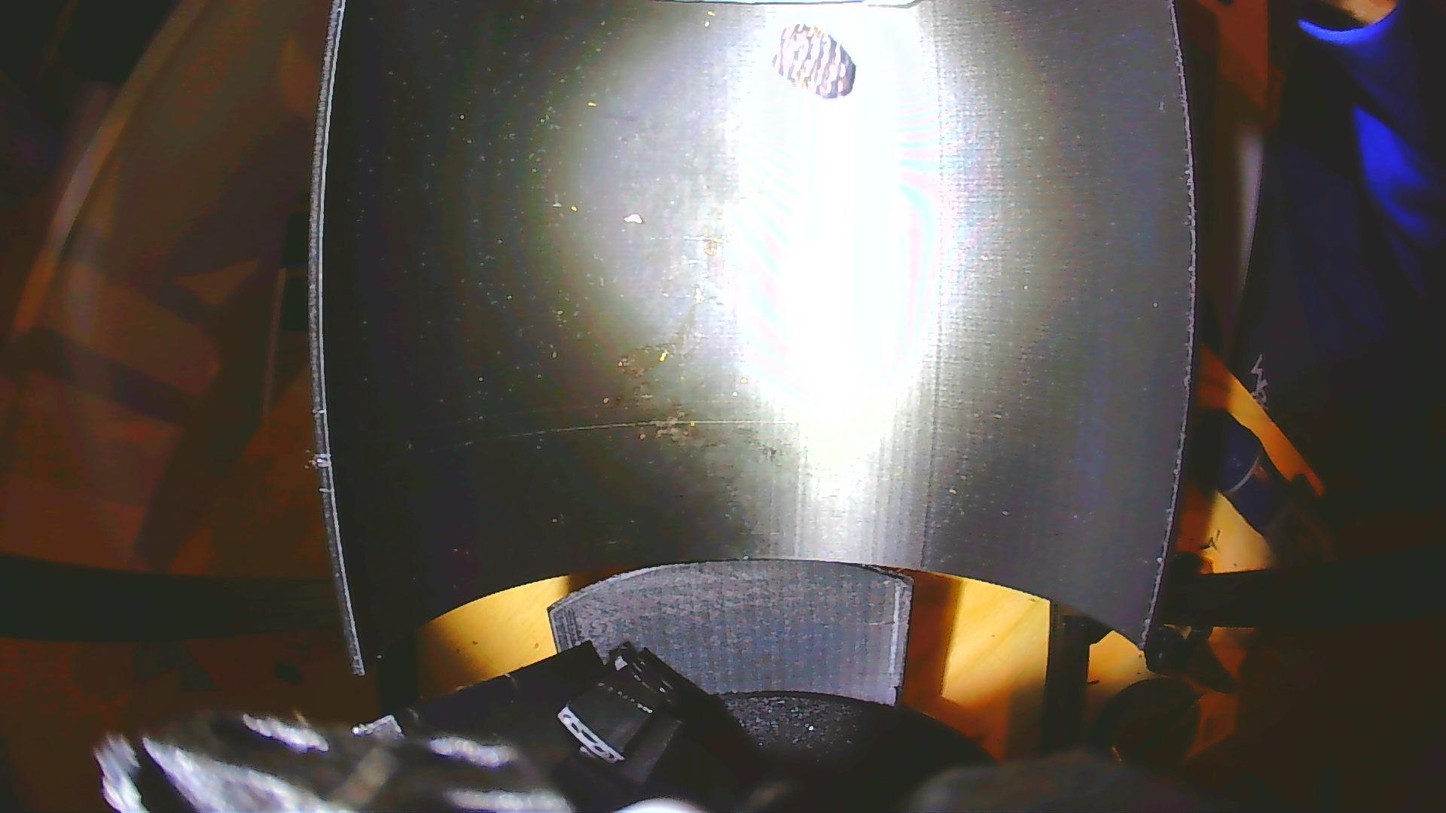berry: (773, 24, 855, 98)
